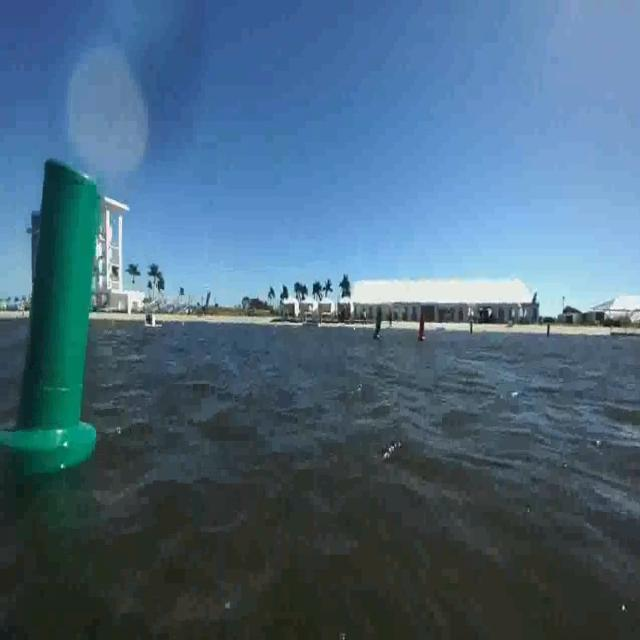green-column-buoy: (1, 176, 104, 472), (372, 307, 383, 343)
red-column-buoy: (417, 314, 427, 345)
